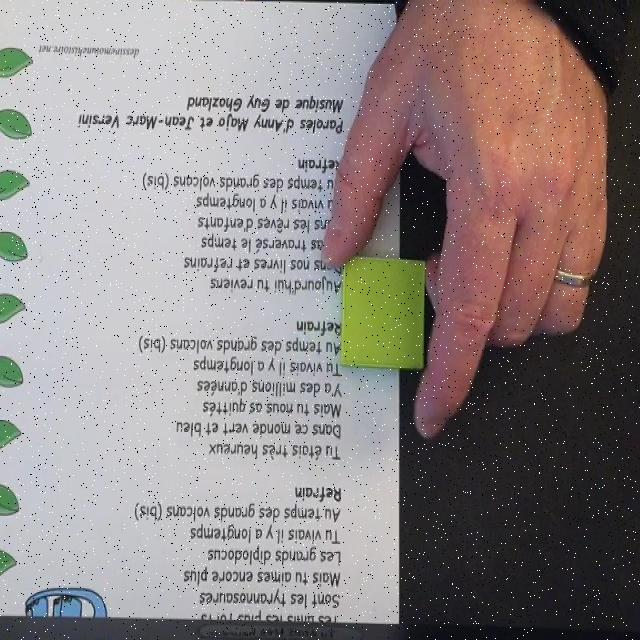square: (339, 253, 426, 372)
